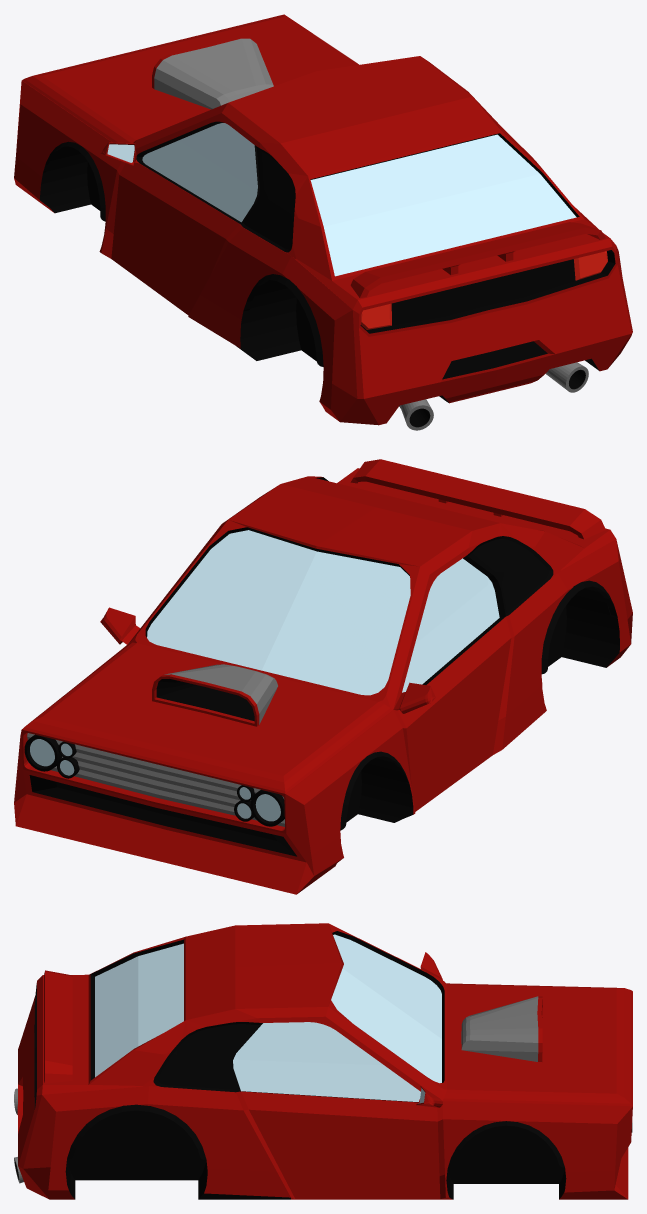
The model's file is Mustang.fbx.
3 views of the same model, one above another, from view 1: azimuth 30°, elevation 25°; view 2: azimuth 150°, elevation 25°; view 3: azimuth 270°, elevation 25° (orthographic). The views are drawn at different scales.
Parts seen in each view (by area): view 1: Mustang; view 2: Mustang; view 3: Mustang.
Part boxes in pixels (box(x1,y1,x2,y2)): Mustang: box(14, 14, 632, 430); Mustang: box(14, 459, 632, 894); Mustang: box(14, 923, 632, 1199).
Bounding box in the file's own units: 169 × 101 × 306.
